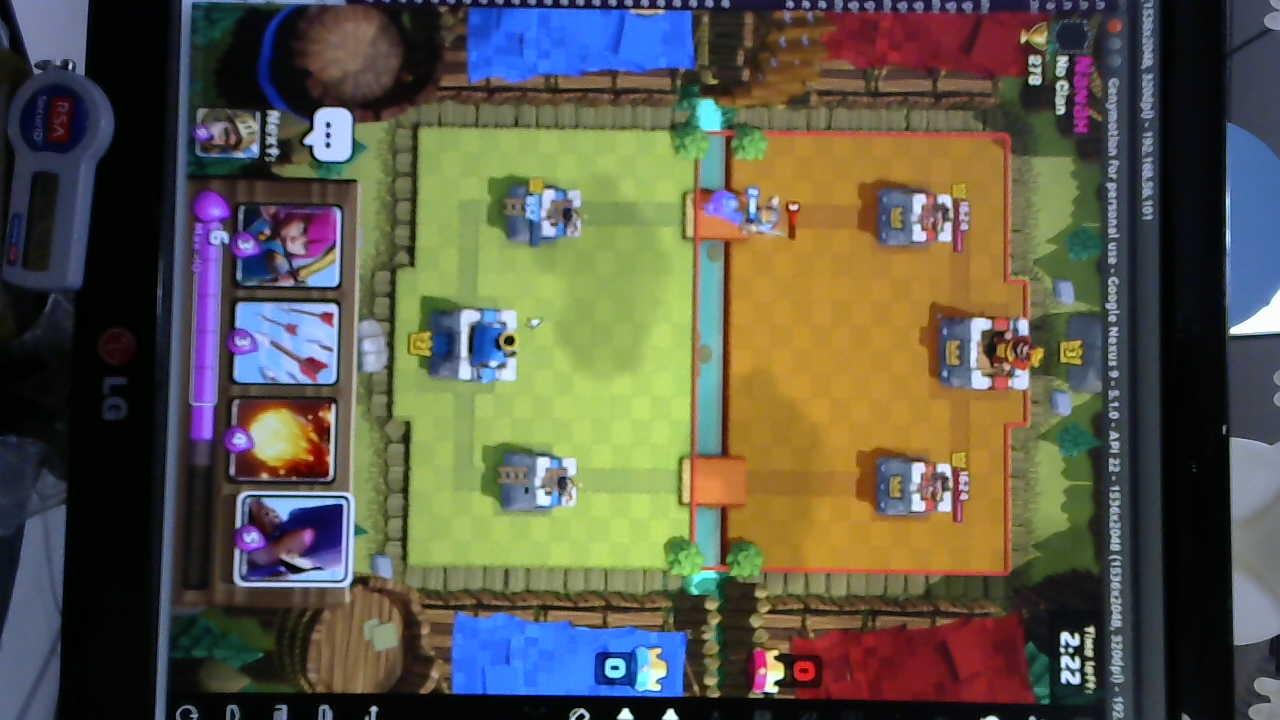arena: (494, 445, 580, 516), (501, 176, 587, 245)
earena: (869, 452, 955, 521), (877, 180, 960, 250)
eking: (938, 309, 1039, 392)
king: (435, 302, 525, 386)
knight: (740, 200, 786, 240)
musketeer: (702, 186, 747, 223)
